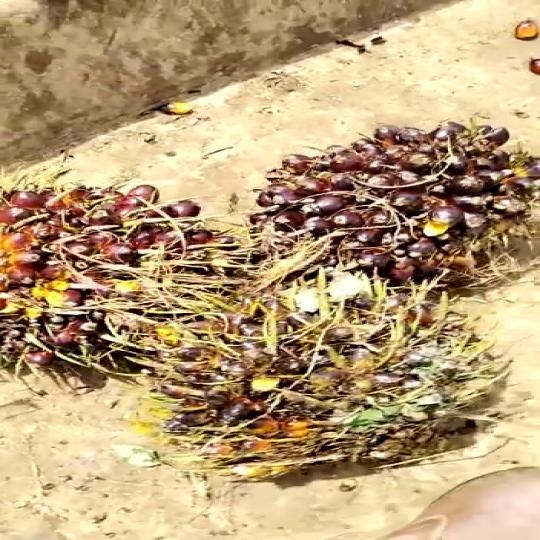kurang masak: (170, 287, 492, 472), (283, 132, 540, 287), (0, 194, 248, 346)
